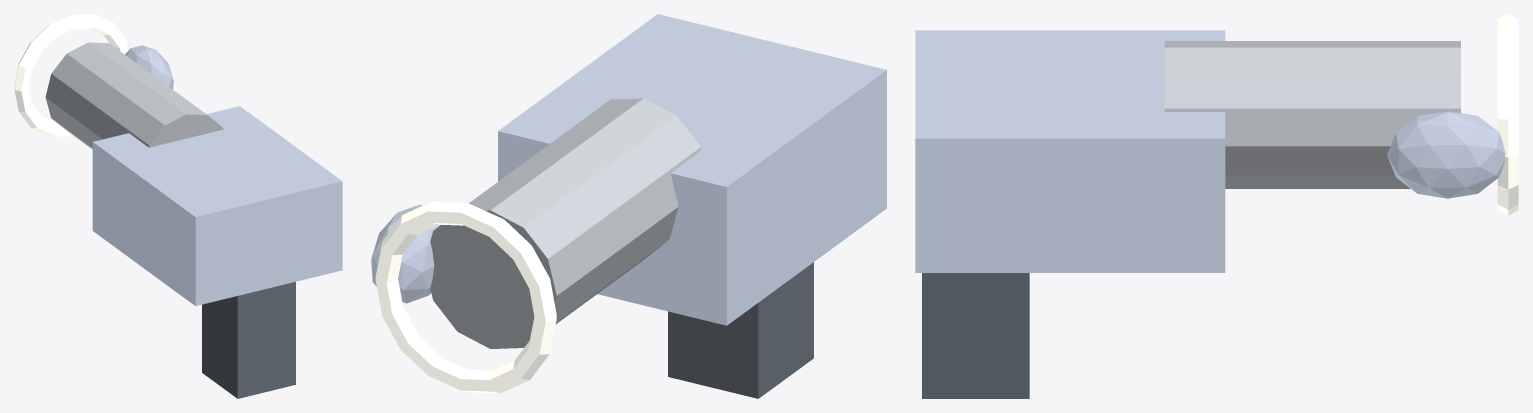
The model's file is pistola_5.glb.
3 views of the same model, side by side, from view 1: azimuth 30°, elevation 25°; view 2: azimuth 150°, elevation 25°; view 3: azimuth 270°, elevation 25° (orthographic). The views are drawn at different scales.
Parts seen in each view (by area): view 1: cuerpo, cañon, empuñadura, bobina, punta; view 2: cuerpo, cañon, bobina, empuñadura, punta; view 3: cuerpo, cañon, empuñadura, punta, bobina.
Boxes of the visible parts, x1,y1,x2,y2 form: cuerpo: (92,106,342,305); cañon: (45,42,223,149); empuñadura: (202,281,295,398); bobina: (14,14,128,136); punta: (125,45,173,89); cuerpo: (498,14,886,325); cañon: (430,98,701,348); bobina: (375,201,556,393); empuñadura: (668,262,813,398); punta: (371,204,440,303); cuerpo: (915,30,1225,272); cañon: (1164,41,1460,188); empuñadura: (922,273,1029,398); punta: (1387,111,1505,198); bobina: (1497,14,1518,215).
Bounding box in the file's own units: 0.3819 × 0.5829 × 0.9.
